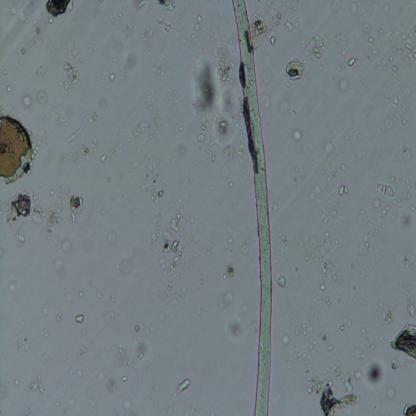Background material: (188, 38, 245, 160), (148, 212, 195, 289), (306, 365, 359, 416), (2, 187, 46, 230), (141, 154, 171, 205), (129, 113, 162, 143), (389, 29, 416, 65), (302, 231, 332, 260), (70, 137, 98, 165), (360, 216, 381, 252), (294, 320, 317, 350), (29, 18, 52, 48), (124, 342, 148, 370), (302, 34, 327, 60), (250, 13, 272, 42), (282, 58, 304, 86), (365, 358, 387, 386), (119, 50, 138, 82), (7, 2, 34, 23), (46, 198, 64, 228), (224, 317, 244, 342), (67, 118, 87, 142), (44, 1, 74, 16), (64, 64, 80, 92), (68, 196, 83, 224), (26, 374, 46, 394), (226, 218, 236, 255), (156, 14, 172, 35), (322, 205, 338, 226), (398, 210, 414, 231), (140, 28, 155, 50), (216, 291, 234, 309), (377, 183, 395, 201), (322, 262, 338, 282), (14, 334, 31, 352), (167, 89, 179, 114), (6, 270, 18, 295), (381, 305, 395, 326), (119, 257, 135, 274), (274, 230, 290, 247), (150, 60, 165, 78), (221, 264, 236, 282), (363, 22, 375, 44), (400, 400, 416, 416), (13, 231, 27, 249), (32, 136, 42, 160), (347, 282, 360, 300), (0, 374, 11, 395), (325, 169, 342, 182), (157, 0, 177, 11), (114, 340, 126, 358), (176, 378, 191, 392), (67, 45, 78, 63), (110, 142, 126, 154), (284, 21, 300, 33), (130, 0, 147, 11), (338, 77, 350, 92), (123, 394, 133, 412), (332, 32, 347, 44), (389, 357, 400, 373), (23, 94, 34, 110), (73, 312, 86, 325), (52, 259, 64, 273), (174, 287, 185, 302), (240, 240, 251, 255), (324, 140, 334, 156), (110, 12, 122, 25), (337, 183, 349, 196), (107, 230, 118, 244), (292, 128, 303, 142), (184, 405, 198, 416), (373, 195, 383, 210), (34, 63, 44, 78), (78, 327, 88, 342), (248, 318, 258, 333), (341, 317, 351, 332), (402, 147, 412, 162), (37, 92, 47, 106), (106, 378, 116, 392), (276, 274, 286, 288), (406, 303, 416, 317), (193, 16, 202, 31), (77, 344, 88, 356), (61, 240, 72, 252), (105, 312, 116, 324), (45, 230, 54, 244), (88, 394, 97, 408), (122, 22, 133, 33), (402, 188, 412, 200), (64, 291, 74, 303), (324, 296, 335, 306), (239, 304, 249, 315), (281, 334, 290, 346), (76, 290, 86, 300), (66, 396, 76, 406), (90, 112, 98, 124), (392, 96, 400, 108), (389, 175, 399, 184), (347, 56, 356, 66), (55, 312, 64, 322), (382, 204, 390, 215), (340, 162, 348, 173), (276, 12, 282, 26), (319, 282, 327, 292), (195, 306, 203, 316), (41, 354, 49, 364), (132, 324, 142, 332), (321, 331, 328, 342), (269, 36, 276, 47), (175, 124, 184, 132), (96, 292, 105, 300), (100, 67, 108, 76), (77, 368, 84, 378), (111, 292, 117, 303), (178, 197, 184, 208), (390, 64, 398, 72), (109, 72, 115, 82), (65, 354, 71, 364), (190, 34, 198, 41), (104, 176, 112, 183), (401, 118, 408, 126), (131, 161, 138, 169), (100, 154, 106, 163), (209, 32, 215, 41), (362, 326, 368, 334), (327, 344, 333, 352), (120, 376, 128, 382), (2, 68, 8, 76), (6, 85, 12, 93), (14, 379, 20, 387), (21, 48, 26, 56), (50, 190, 54, 198), (45, 332, 49, 340), (228, 182, 233, 187), (192, 101, 196, 107)
Cellulose filter fibre: (390, 326, 416, 360)
Diatom: (0, 114, 32, 184)
Microfibre: (233, 1, 274, 416)
